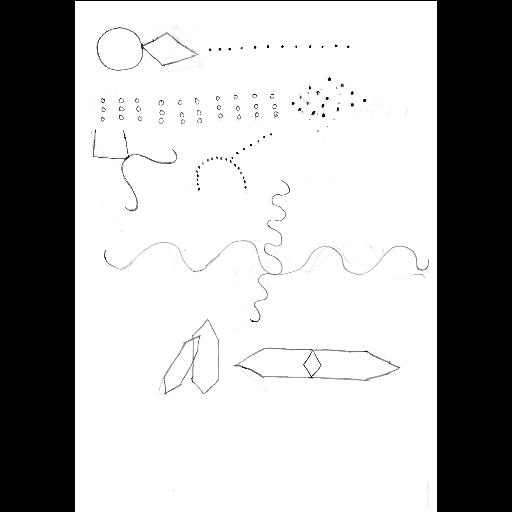shape-1: (98, 26, 200, 74)
shape-2: (205, 37, 353, 53)
shape-3: (96, 86, 282, 126)
shape-4: (290, 73, 368, 121)
shape-5: (92, 128, 178, 212)
shape-6: (194, 128, 274, 192)
shape-7: (103, 180, 431, 324)
shape-8: (162, 318, 220, 398)
shape-9: (230, 344, 402, 382)
